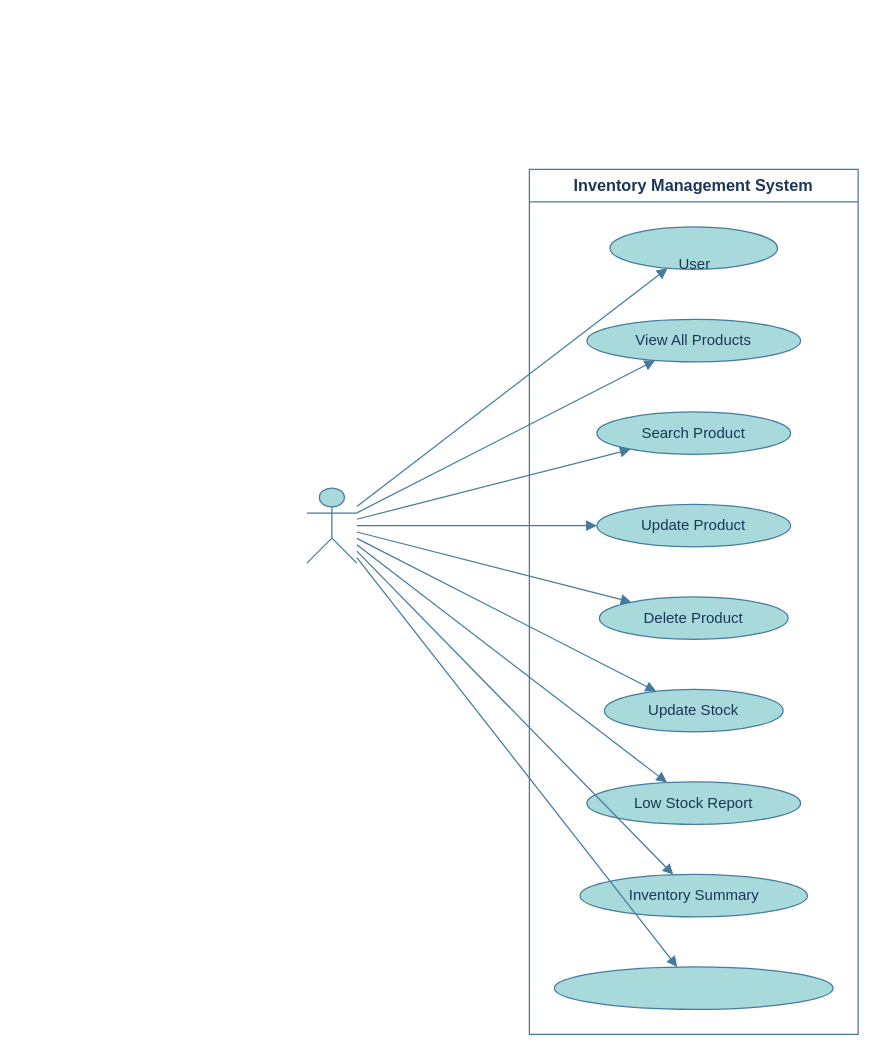
This 880x1056 diagram has some shape labels left out. The shapes that lost their labels are listed below. From the top down, each one's box as (x1, y1, x2, y2) in pixels, then its label:
(609, 226, 778, 269): Add Product
(553, 966, 833, 1009): Calculate Inventory Value
